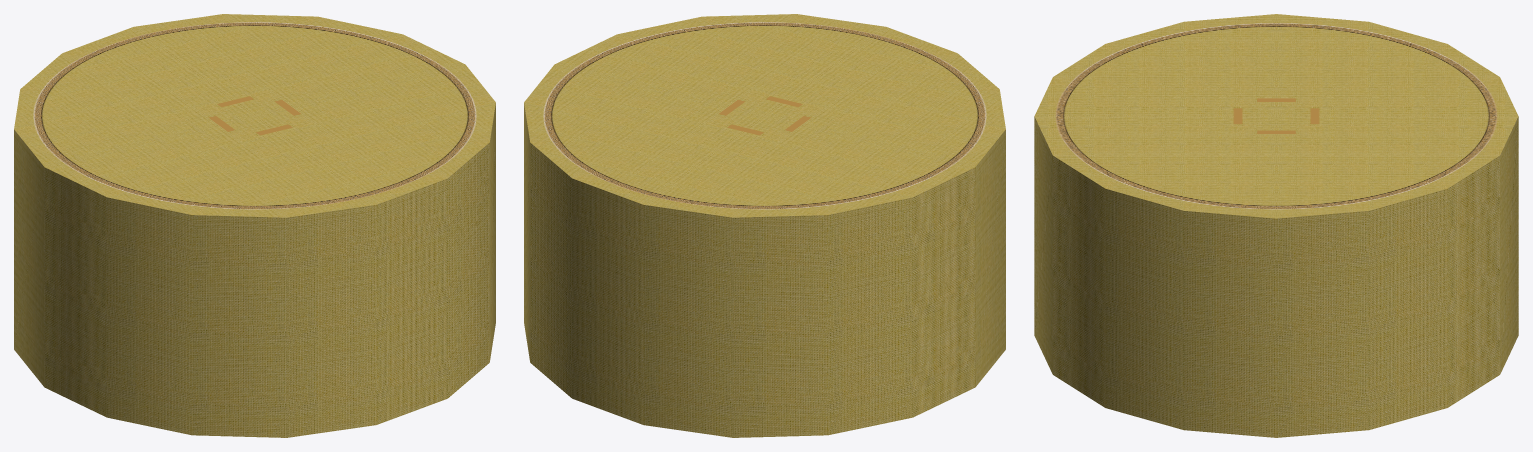
The model's file is Ring.FBX.
3 views of the same model, side by side, from view 1: azimuth 30°, elevation 25°; view 2: azimuth 150°, elevation 25°; view 3: azimuth 270°, elevation 25° (orthographic).
Parts seen in each view (by area): view 1: Cylinder001; view 2: Cylinder001; view 3: Cylinder001.
Part boxes in pixels (x1,y1,x2,y2): Cylinder001: [14, 14, 495, 437]; Cylinder001: [524, 14, 1005, 437]; Cylinder001: [1034, 14, 1518, 437].
Size of the model in its own units: 10 by 5 by 10.
